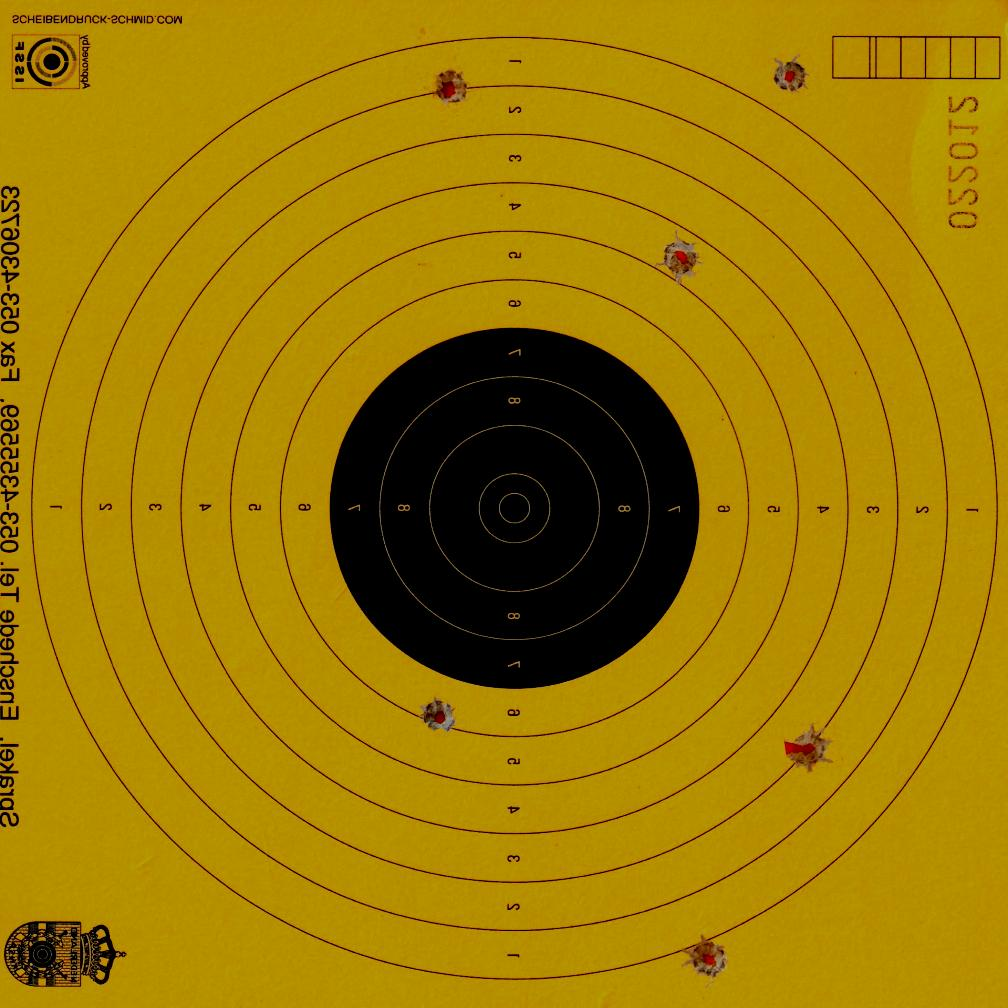0: (768, 58, 812, 94)
1: (683, 936, 732, 978)
2: (428, 66, 466, 109)
3: (783, 725, 833, 772)
4: (656, 237, 706, 281)
6: (423, 698, 457, 735)
Target: (25, 32, 998, 977)
black_contour: (329, 329, 698, 689)
